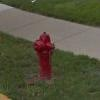Hydrant: (25, 26, 59, 91)
